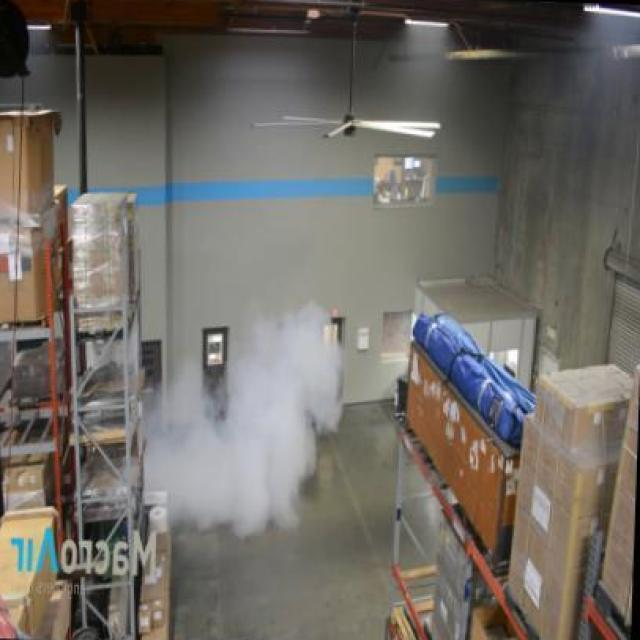fire: (171, 294, 348, 543)
